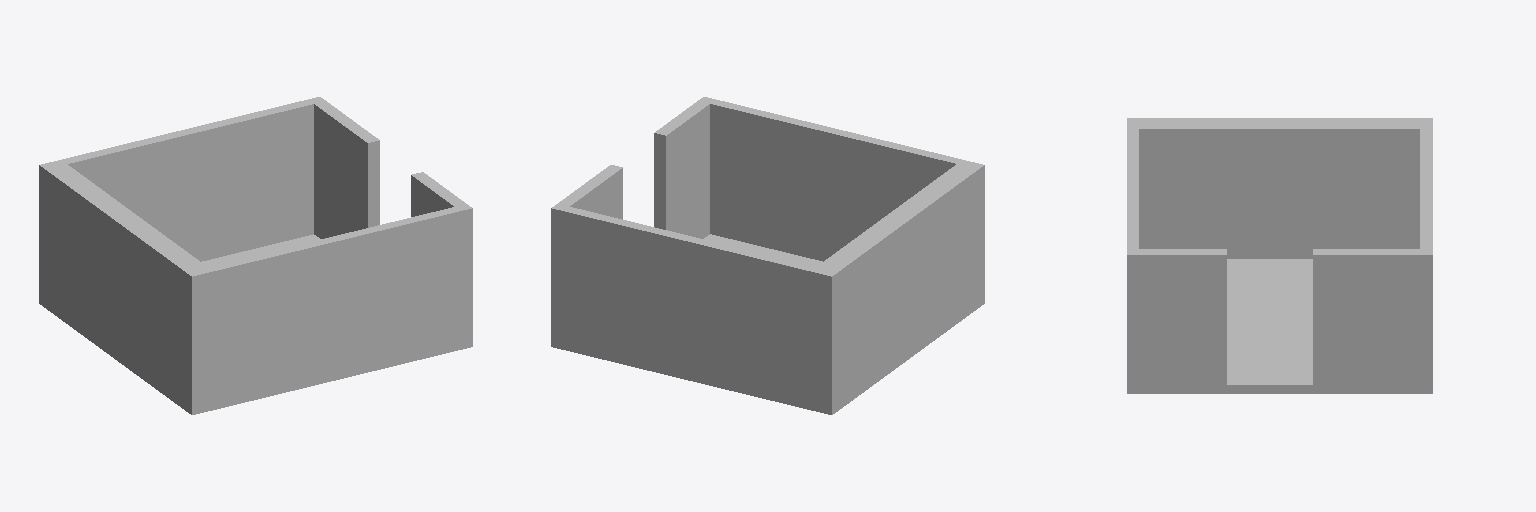
The model's file is testroom.obj.
3 views of the same model, side by side, from view 1: azimuth 30°, elevation 25°; view 2: azimuth 150°, elevation 25°; view 3: azimuth 270°, elevation 25° (orthographic).
Parts seen in each view (by area): view 1: Cube; view 2: Cube; view 3: Cube.
Part boxes in pixels (x1,y1,x2,y2): Cube: (39,97,472,414); Cube: (551,97,984,414); Cube: (1127,118,1432,393).
Bounding box in the file's own units: 17.18 × 8.11 × 16.17.